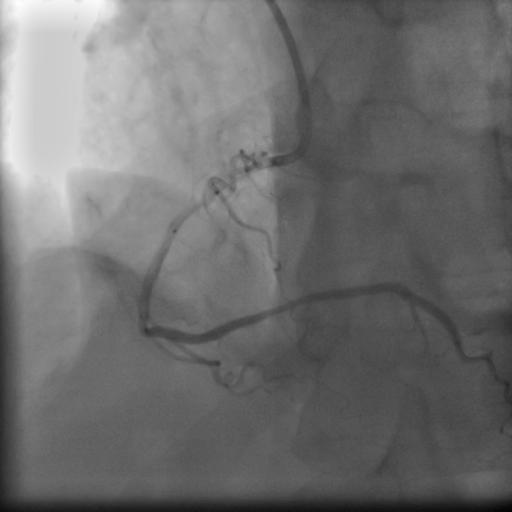Stenosis: (186, 188, 216, 216)
